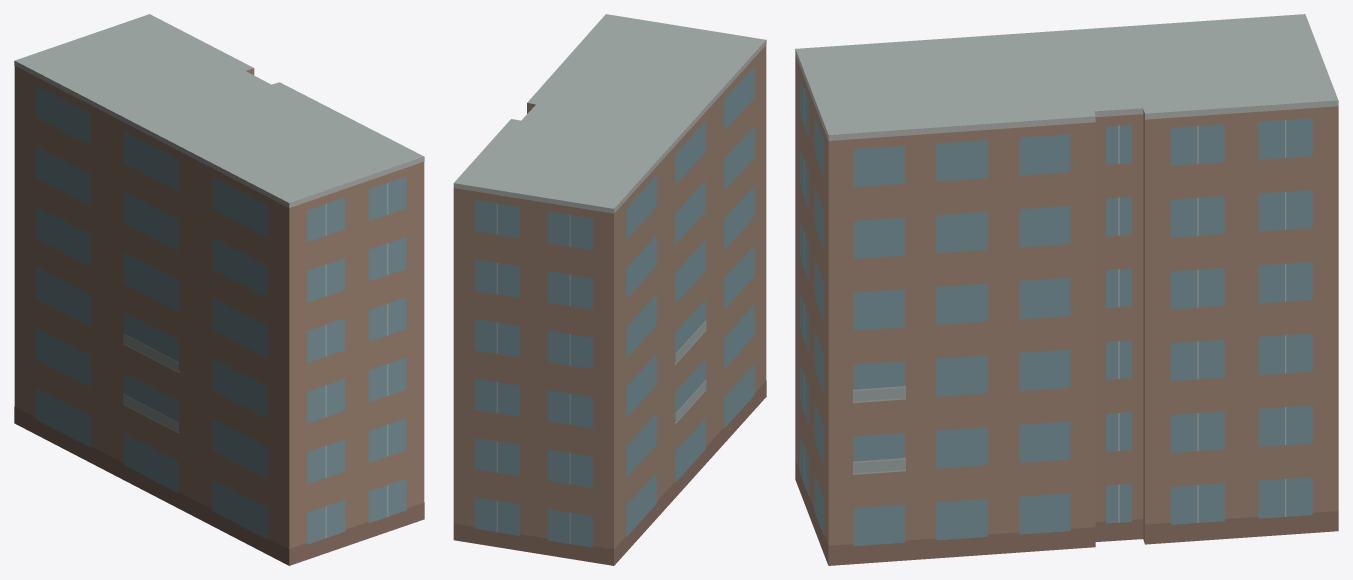
The model's file is survey-upis-32987071.glb.
3 views of the same model, side by side, from view 1: azimuth 30°, elevation 25°; view 2: azimuth 150°, elevation 25°; view 3: azimuth 270°, elevation 25° (orthographic). The views are drawn at different scales.
Visible parts, largest first — view 1: survey-upis-32987071.tmp; view 2: survey-upis-32987071.tmp; view 3: survey-upis-32987071.tmp.
Part boxes in pixels (x1,y1,x2,y2): survey-upis-32987071.tmp: (14, 14, 424, 565); survey-upis-32987071.tmp: (453, 14, 766, 565); survey-upis-32987071.tmp: (795, 14, 1338, 565).
Bounding box in the file's own units: 10.81 × 17.9 × 20.47.
